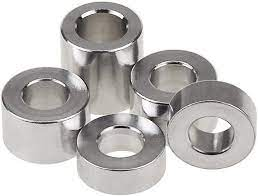No thread: (60, 5, 141, 53), (10, 75, 82, 118), (181, 110, 239, 157), (90, 124, 150, 163), (145, 60, 198, 98)
